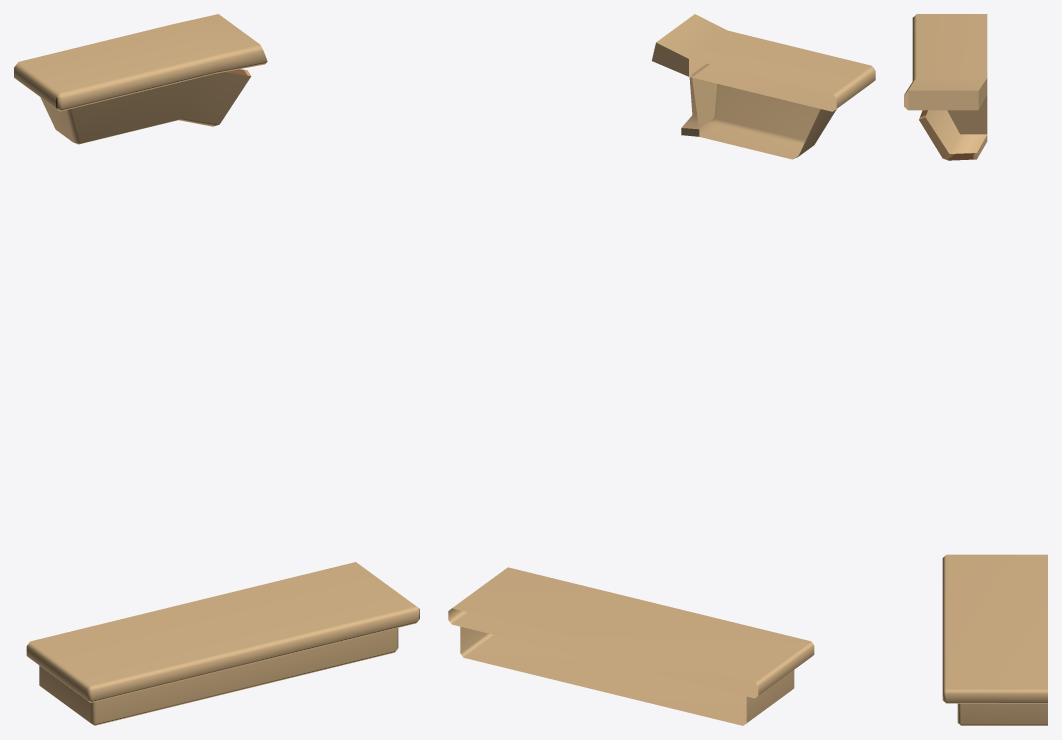
Rendered from DBK_WinSmall_Trim_E_90.fbx.
The picture shows the model from 3 angles, left to right: view 1: azimuth 30°, elevation 25°; view 2: azimuth 150°, elevation 25°; view 3: azimuth 270°, elevation 25°; orthographic projection. The views are drawn at different scales.
Parts seen in each view (by area): view 1: DBK_WinSmall_Trim_E_90; view 2: DBK_WinSmall_Trim_E_90; view 3: DBK_WinSmall_Trim_E_90.
Boxes of the visible parts, x1,y1,x2,y2 form: DBK_WinSmall_Trim_E_90: (14, 14, 419, 725); DBK_WinSmall_Trim_E_90: (448, 14, 875, 725); DBK_WinSmall_Trim_E_90: (904, 14, 1047, 725).
Bounding box in the file's own units: 93.72 × 158 × 36.3.
